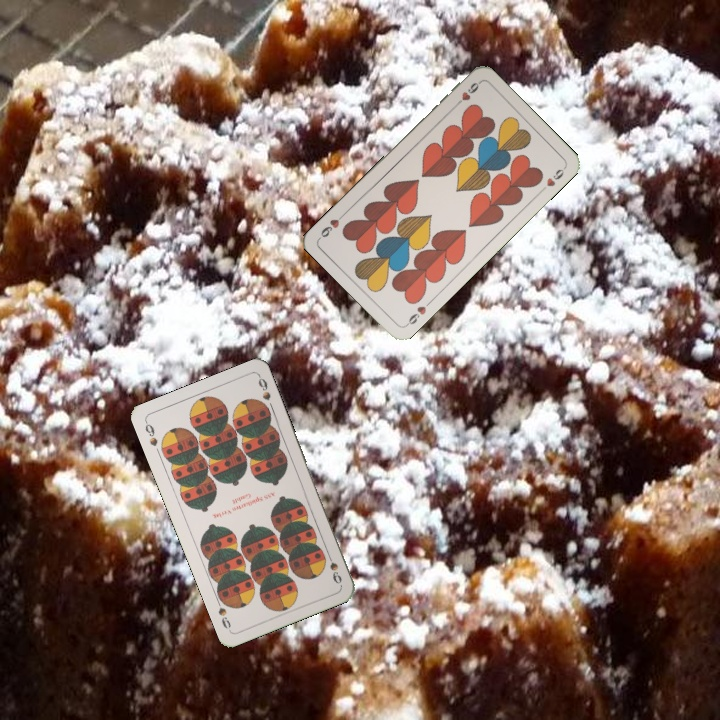H9: (451, 78, 483, 110), (402, 297, 434, 329)
S9: (323, 548, 344, 586), (141, 418, 160, 449)
